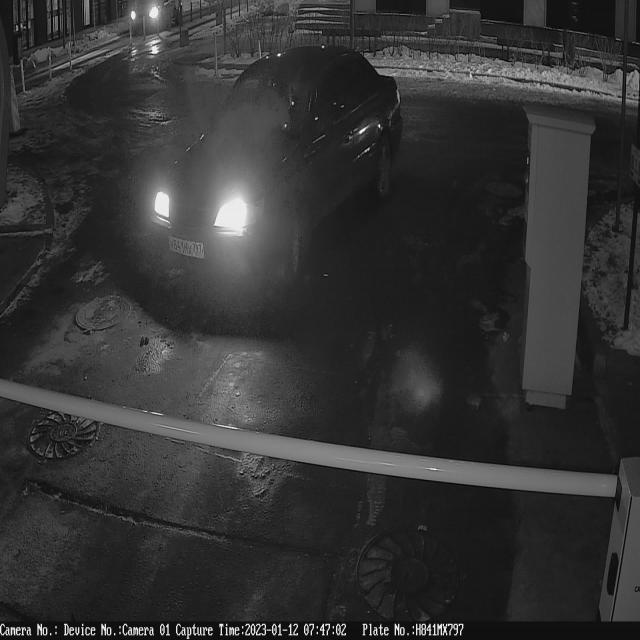car-plate-numbers: (161, 230, 211, 266)
